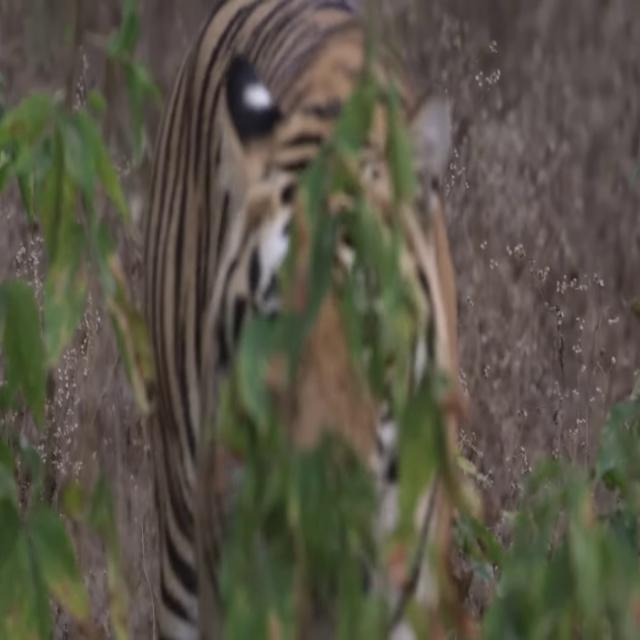tiger: (143, 0, 460, 640)
